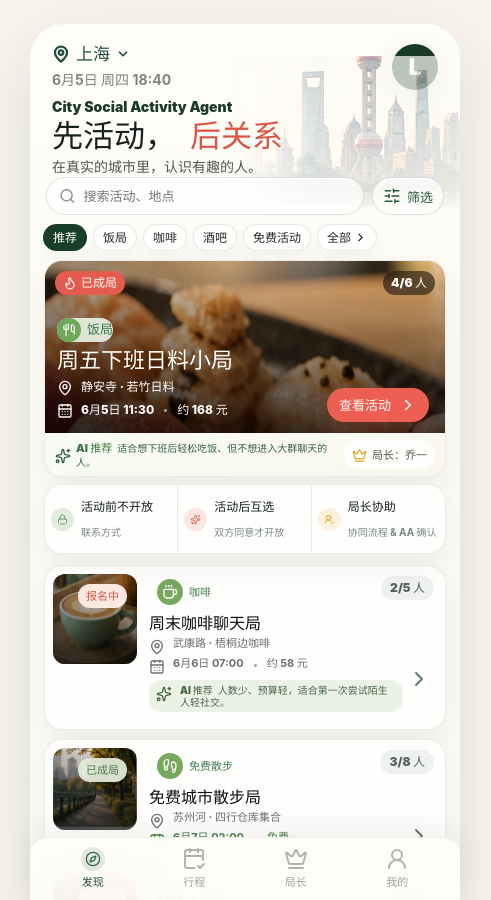
Scenario: App discovery flow › opens a non-default activity detail page from the feed
This screenshot has width=491, height=900.
Click the button named "查看 周末咖啡聊天局" at (419, 679), box x1=405 y1=665 x2=433 y2=693
(page scrolled)
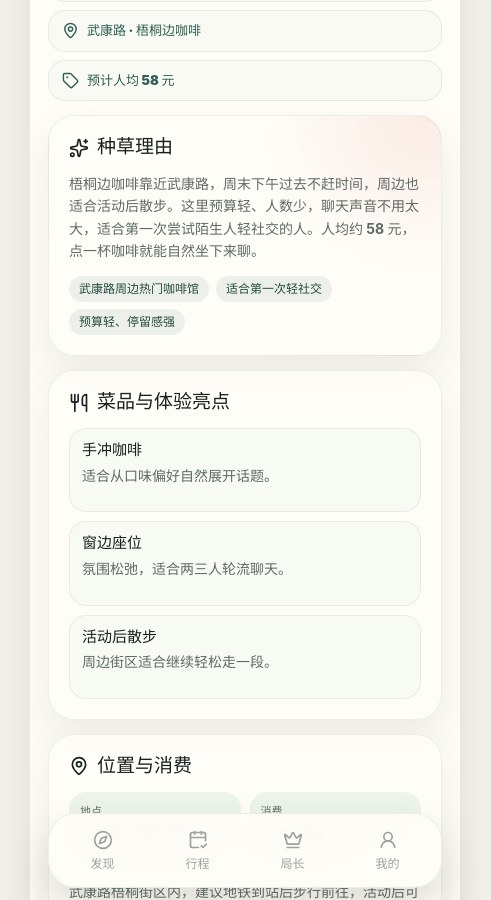
Check: the text "梧桐边咖啡靠近武康路" is shown, box x1=69 y1=175 x2=419 y2=259
Check: the heading "手冲咖啡" is shown, box x1=82 y1=440 x2=142 y2=459
